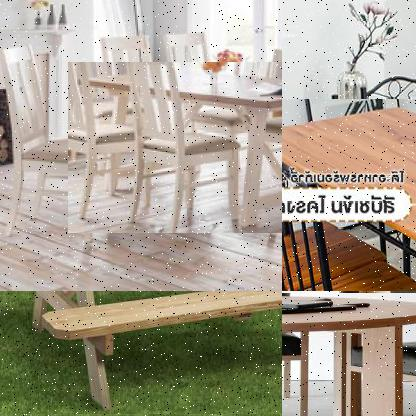table: (68, 62, 281, 235), (0, 291, 281, 415), (282, 99, 415, 290), (282, 293, 415, 415)
